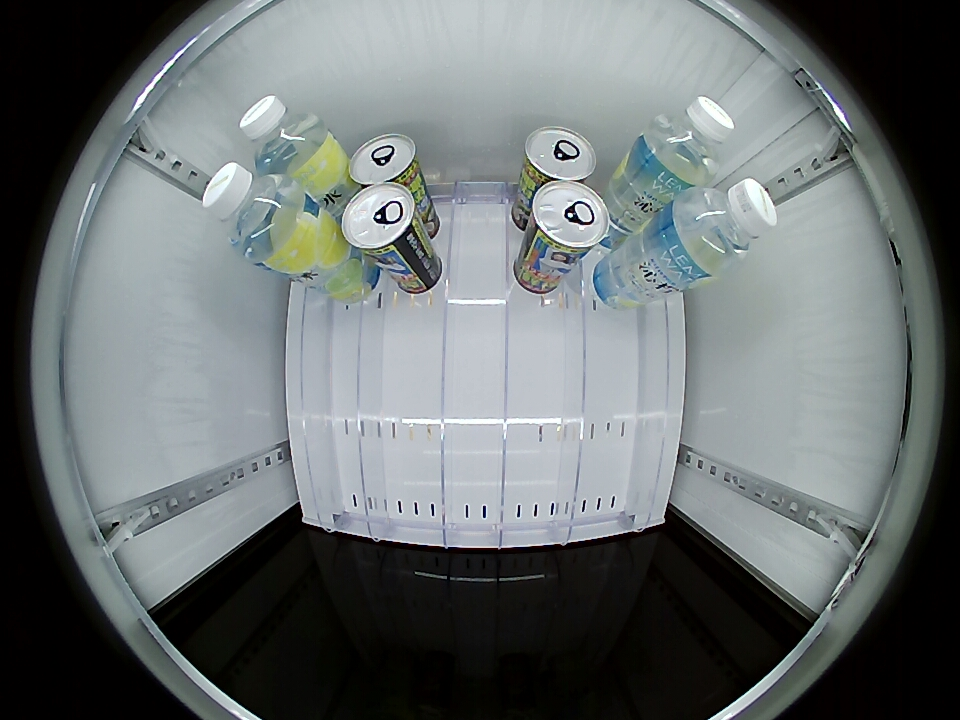qinningshui: (202, 162, 310, 266), (672, 178, 778, 275), (640, 96, 735, 187), (239, 95, 330, 176)
yezhi: (527, 180, 611, 257), (340, 183, 421, 256), (522, 126, 598, 187), (348, 133, 424, 191)
